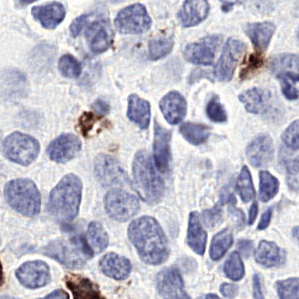Lymphocyte: (249, 51, 265, 71)
